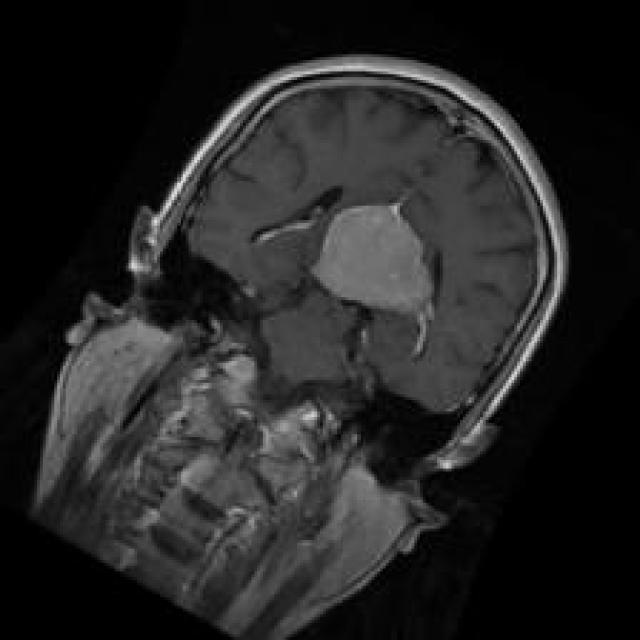meningioma_tumor: (299, 183, 449, 334)
